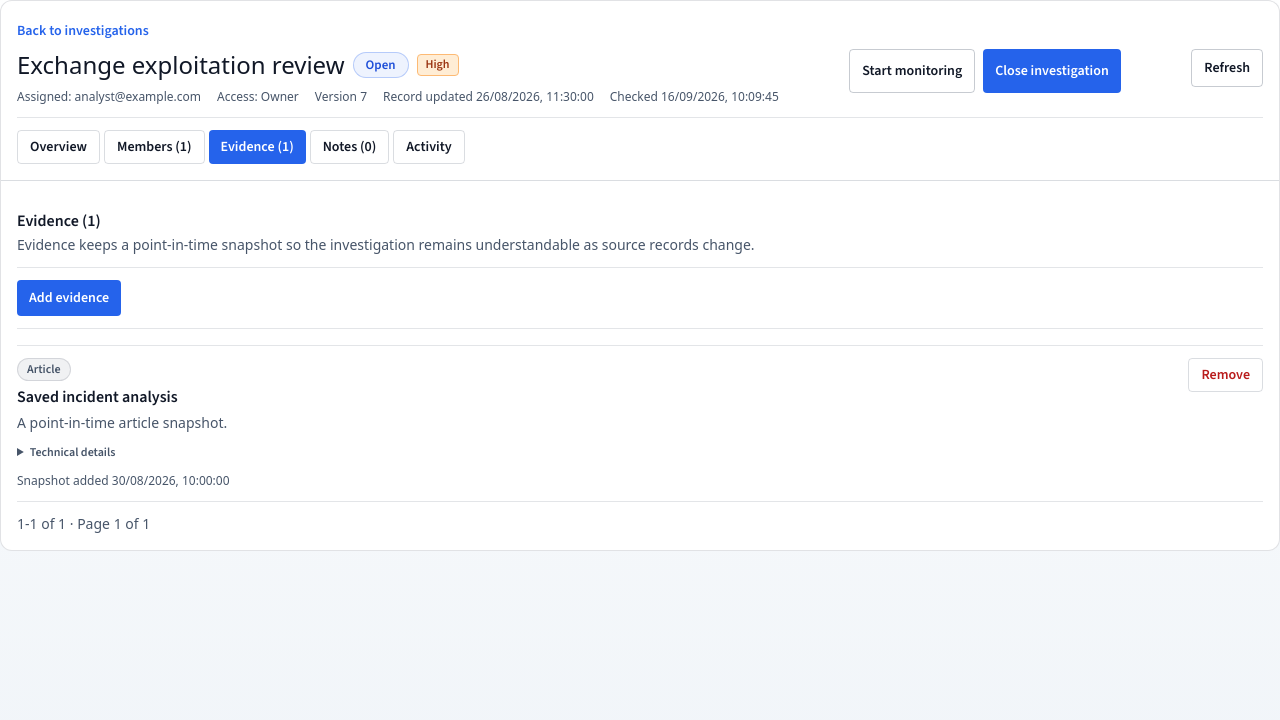
it: Investigation evidence finder › keeps saved evidence visible when discovery fails and never queries forbidden sources
This screenshot has width=1280, height=720.
Step 1. Click the button "Add evidence" → (69, 298), box [17,280,121,316]
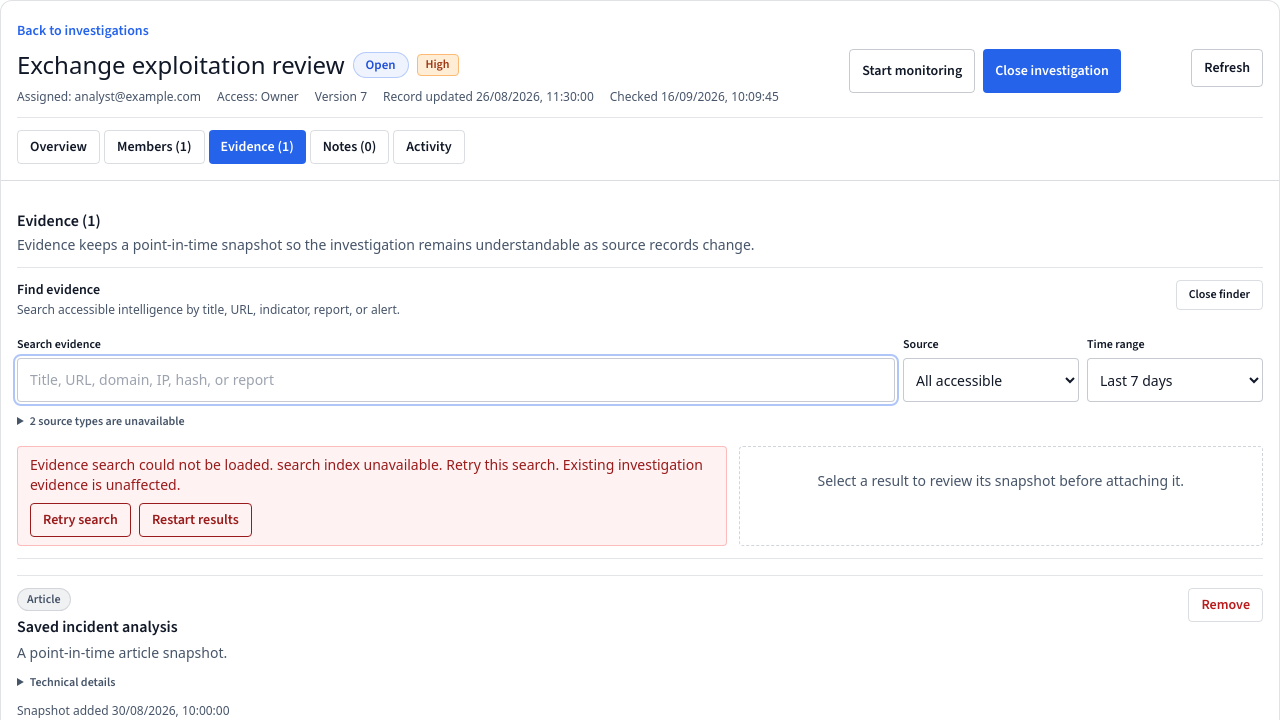
Expected: the text "Saved incident analysis" is shown, [17,616,178,638]
Expected: the text "Evidence search could not be loaded" is shown, [30,455,703,494]
Expected: the button "Retry search" is shown, [30,503,131,537]
